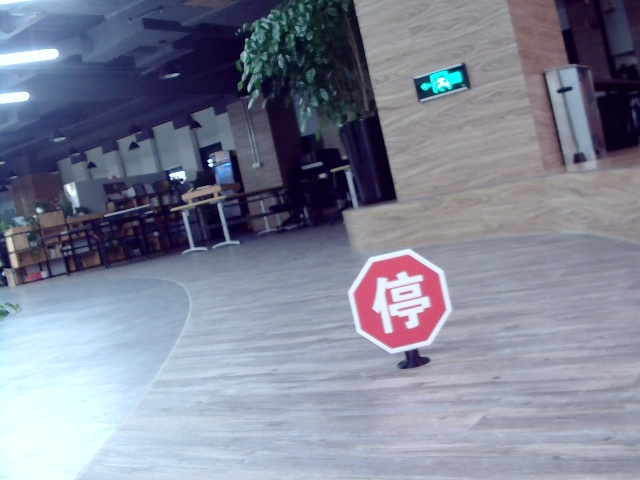stop: (367, 273, 433, 333)
